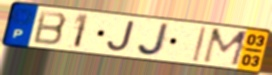1: (72, 12, 90, 50)
B: (31, 9, 70, 47)
I: (191, 26, 208, 63)
J: (135, 22, 172, 58), (105, 20, 138, 53)
M: (200, 27, 252, 68)
